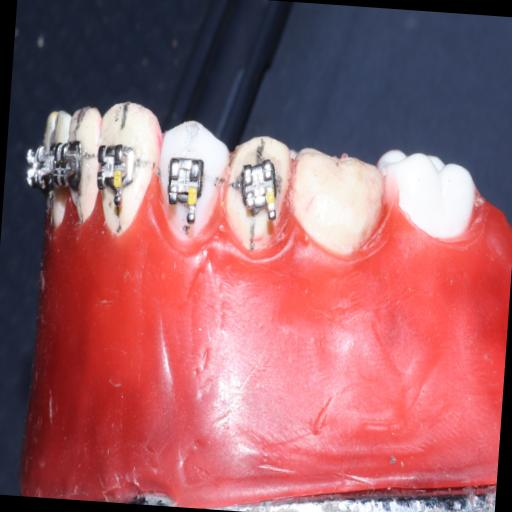incorrect_brace: (235, 162, 281, 216)
